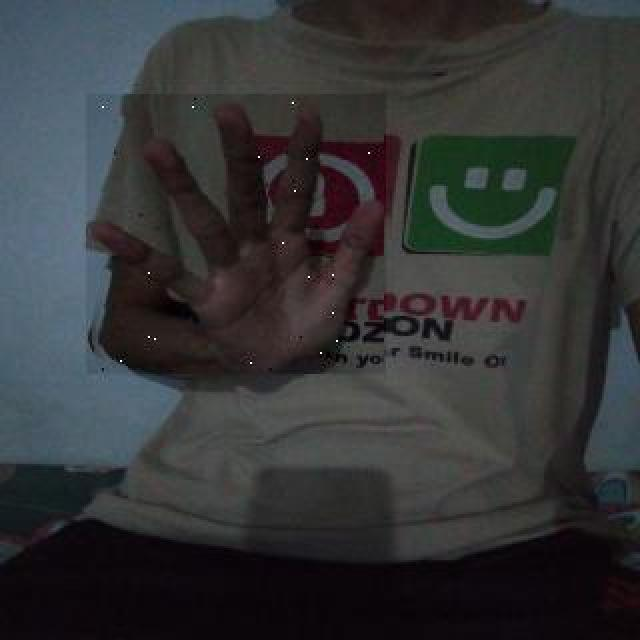hand: (88, 94, 392, 374)
